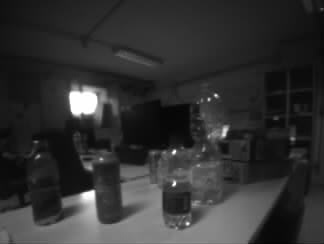Bottle: (191, 83, 224, 203), (27, 139, 61, 224), (161, 145, 191, 225)
Tin can: (93, 157, 123, 222)
